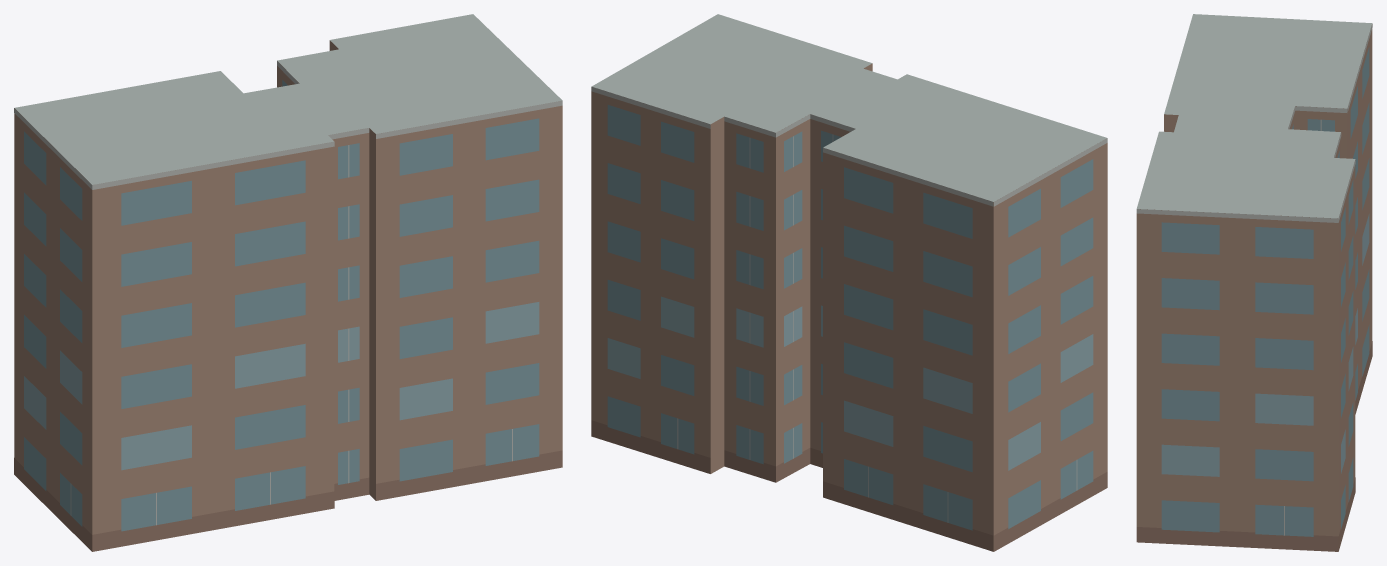
Rendered from survey-upis-33000311.glb.
3 views of the same model, side by side, from view 1: azimuth 30°, elevation 25°; view 2: azimuth 150°, elevation 25°; view 3: azimuth 270°, elevation 25° (orthographic). The views are drawn at different scales.
Visible parts, largest first — view 1: survey-upis-33000311.tmp; view 2: survey-upis-33000311.tmp; view 3: survey-upis-33000311.tmp.
Boxes of the visible parts, x1,y1,x2,y2 form: survey-upis-33000311.tmp: (14, 14, 562, 551); survey-upis-33000311.tmp: (591, 14, 1107, 551); survey-upis-33000311.tmp: (1136, 14, 1372, 551).
Bounding box in the file's own units: 23.55 × 17.9 × 11.48.
